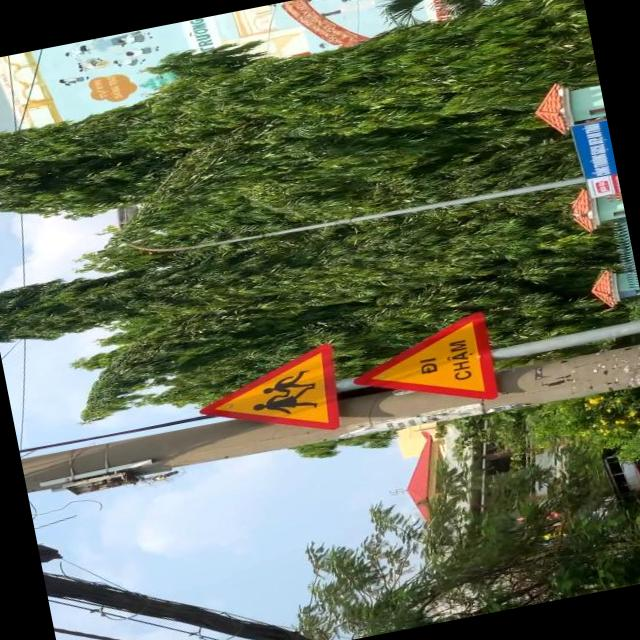W-225: (192, 344, 346, 452)
W-245a: (343, 311, 501, 422)
